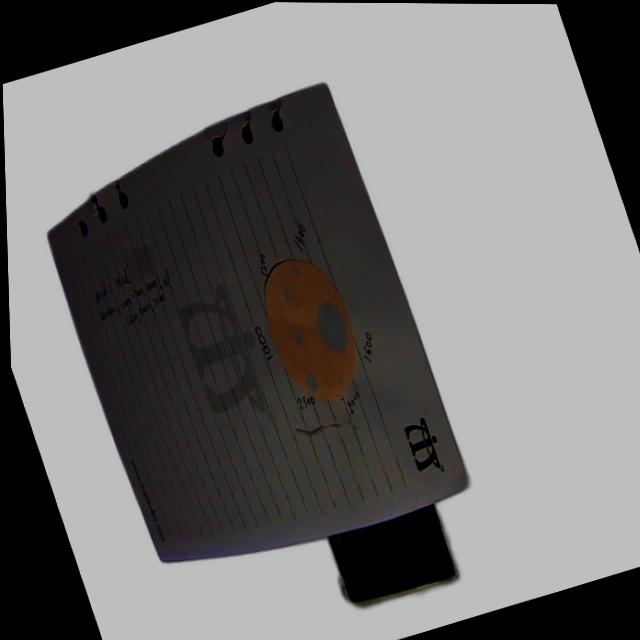BlueColor: (316, 301, 348, 351), (305, 373, 317, 391), (293, 329, 302, 343), (283, 286, 290, 300), (292, 264, 300, 275), (335, 374, 343, 384)
